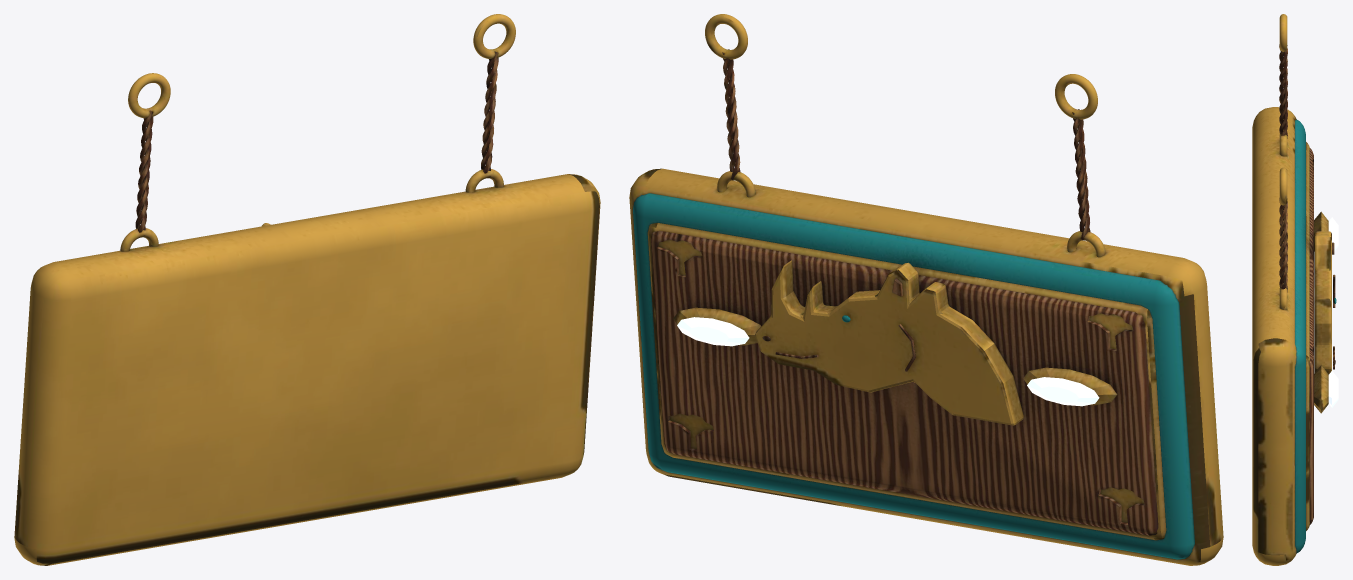
3 renders of one model, left to right at view 1: azimuth 30°, elevation 25°; view 2: azimuth 150°, elevation 25°; view 3: azimuth 270°, elevation 25°, orthographic. The views are drawn at different scales.
Parts seen in each view (by area): view 1: Brushed_savanna_gold, Polished_acacia; view 2: Polished_acacia, Brushed_savanna_gold, Teal_enamel, glow_Blue_white_crystal; view 3: Brushed_savanna_gold, Teal_enamel, Polished_acacia, glow_Blue_white_crystal.
Boxes of the visible parts, x1,y1,x2,y2 form: Brushed_savanna_gold: (14, 14, 600, 565); Polished_acacia: (135, 51, 498, 235); Polished_acacia: (651, 49, 1158, 535); Brushed_savanna_gold: (629, 14, 1223, 565); Teal_enamel: (633, 193, 1194, 559); glow_Blue_white_crystal: (677, 317, 1099, 406); Brushed_savanna_gold: (1252, 14, 1331, 565); Teal_enamel: (1295, 119, 1336, 553); Polished_acacia: (1279, 44, 1335, 524); glow_Blue_white_crystal: (1328, 217, 1338, 407).
Bounding box in the file's own units: 1.64 × 1.35 × 0.269.
4 materials, 3 textured.
